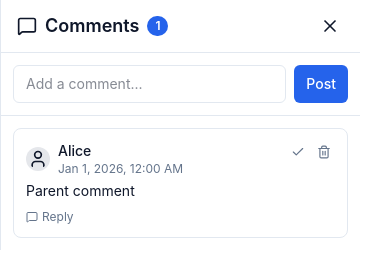
Test: CommentsPanel › reply, resolve, delete flow: CommentThread receives callbacks
The image size is (377, 277).
Check: the text "Parent comment" is shown, box [26, 182, 135, 199]
Click the button "Reply" at (50, 217), box [26, 209, 74, 225]
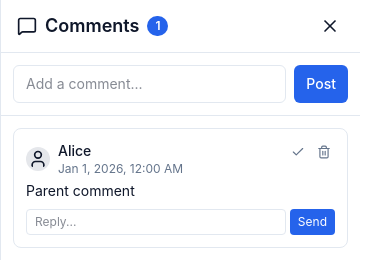
Check: the field with placeholder "Reply..." is shown, box [26, 209, 286, 235]
